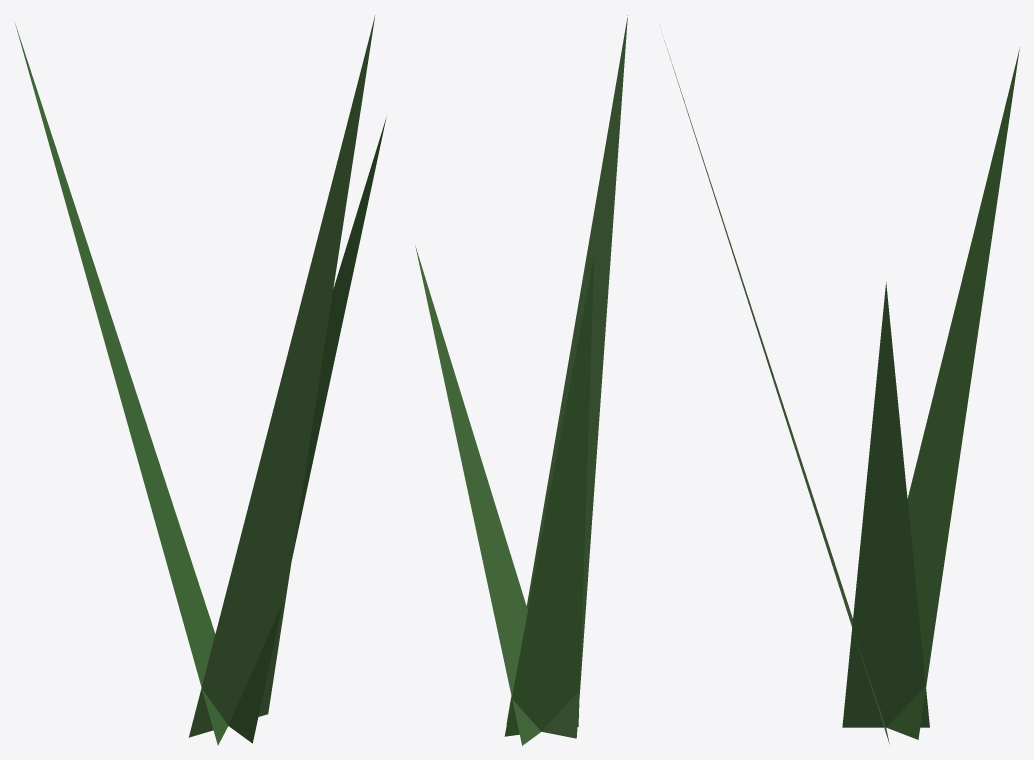
Rendered from high_grass_lod1.glb.
The picture shows the model from 3 angles, left to right: view 1: azimuth 30°, elevation 25°; view 2: azimuth 150°, elevation 25°; view 3: azimuth 270°, elevation 25°; orthographic projection. The views are drawn at different scales.
Parts seen in each view (by area): view 1: high_grass_lod1; view 2: high_grass_lod1; view 3: high_grass_lod1.
Part boxes in pixels (x1,y1,x2,y2): high_grass_lod1: (15,15,386,745); high_grass_lod1: (415,15,627,745); high_grass_lod1: (664,40,1019,743).
Bounding box in the file's own units: 0.3553 × 0.91 × 0.4157.
